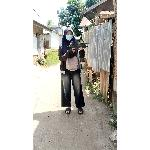Senapan: (64, 40, 94, 56)
